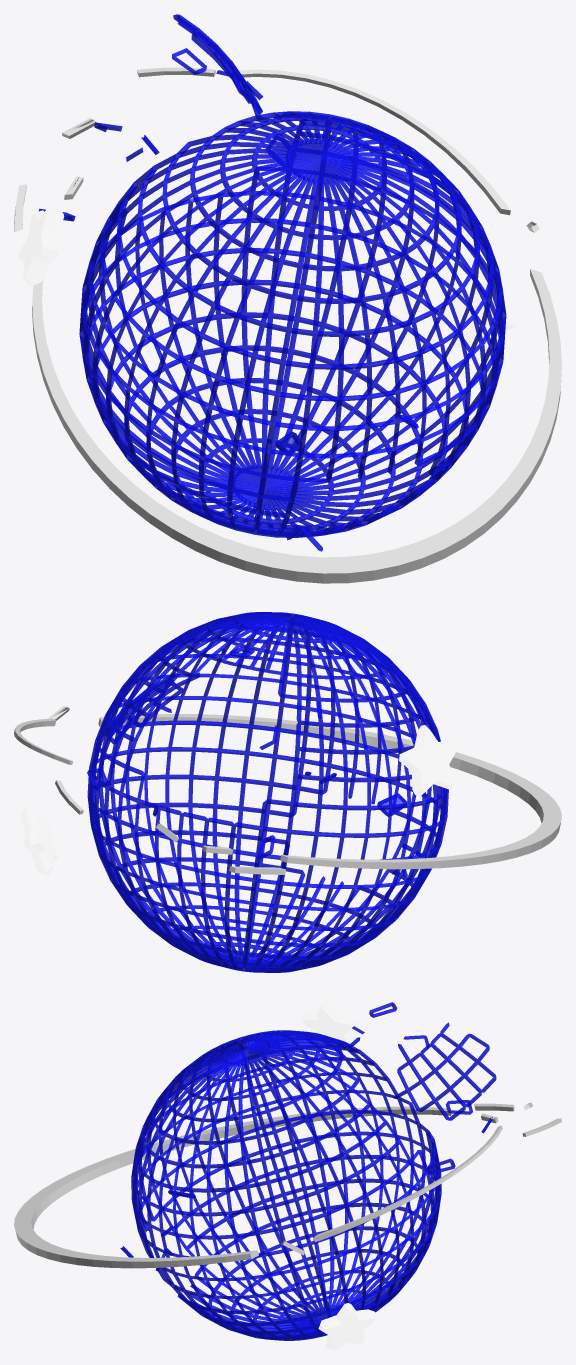
File: earth2.glb
3 renders of one model, top to bottom at view 1: azimuth 30°, elevation 25°; view 2: azimuth 150°, elevation 25°; view 3: azimuth 270°, elevation 25°, orthographic. The views are drawn at different scales.
Visible parts, largest first — view 1: Sphere, ersatz ring v2, Plane, Plane.001; view 2: Sphere, ersatz ring v2, Plane, Plane.001; view 3: Sphere, ersatz ring v2, Plane.001, Plane.
Part boxes in pixels (x1=…): Sphere: x1=38, y1=14, x2=506, y2=551; ersatz ring v2: x1=14, y1=67, x2=561, y2=583; Plane: x1=18, y1=205, x2=64, y2=286; Plane.001: x1=448, y1=281, x2=517, y2=363; Sphere: x1=87, y1=612, x2=448, y2=972; ersatz ring v2: x1=14, y1=706, x2=561, y2=874; Plane: x1=399, y1=725, x2=457, y2=797; Plane.001: x1=20, y1=806, x2=58, y2=875; Sphere: x1=120, y1=1002, x2=496, y2=1340; ersatz ring v2: x1=14, y1=1102, x2=561, y2=1268; Plane.001: x1=318, y1=1303, x2=376, y2=1350; Plane: x1=301, y1=1001, x2=357, y2=1043.
Bounding box in the file's own units: 2.74 × 2.21 × 3.57.
